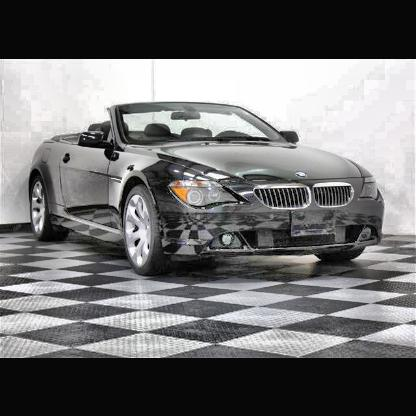BMW 6 Series Convertible 2007: (26, 99, 388, 284)
